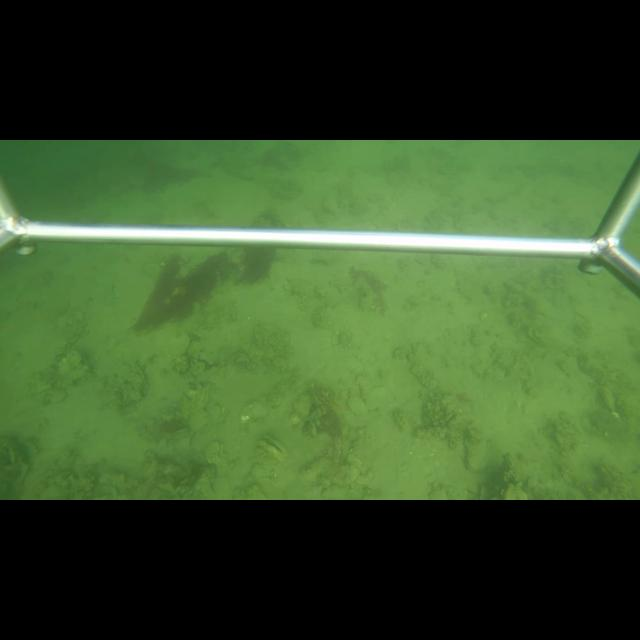Oyster-Open: (250, 432, 289, 464)
